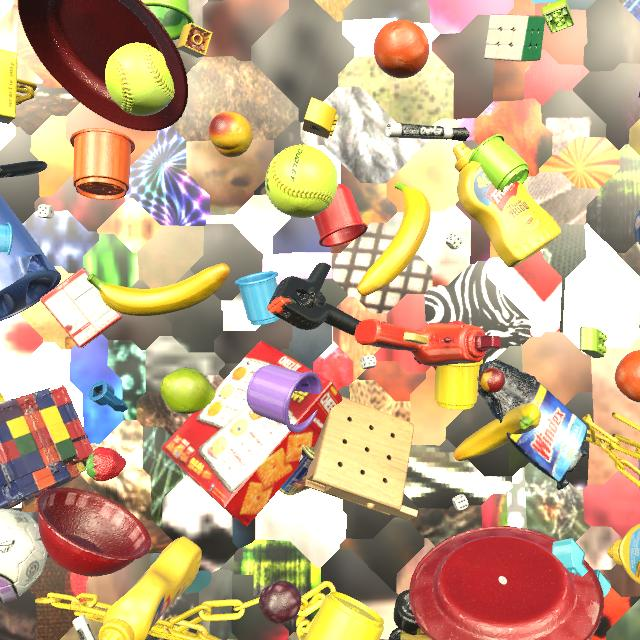ycb_003_cracker_box: (161, 341, 342, 527)
ycb_004_sugar_box: (0, 49, 18, 124)
ycb_006_mustard_bottle: (453, 143, 561, 268), (99, 536, 201, 640), (607, 523, 640, 584)
ycb_007_tuna_fish_can: (633, 210, 640, 244)
ycb_009_gelatin_box: (40, 268, 123, 348)
ycb_010_potted_meat_can: (279, 445, 315, 495)
ycb_011_banana: (357, 182, 431, 296), (87, 263, 230, 316), (453, 403, 541, 461)
ycb_012_strawberry: (86, 447, 126, 482)
ycb_015_peach: (208, 111, 253, 157)
ycb_016_pear: (160, 368, 216, 414)
ycb_017_orange: (374, 20, 429, 78), (615, 350, 640, 403)
ycb_018_plum: (259, 580, 301, 624)
